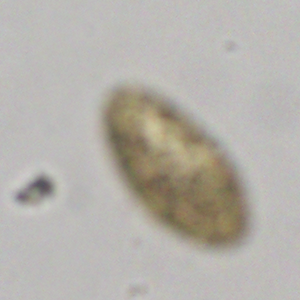Fasciola_hepatica_egg: (101, 84, 250, 247)
